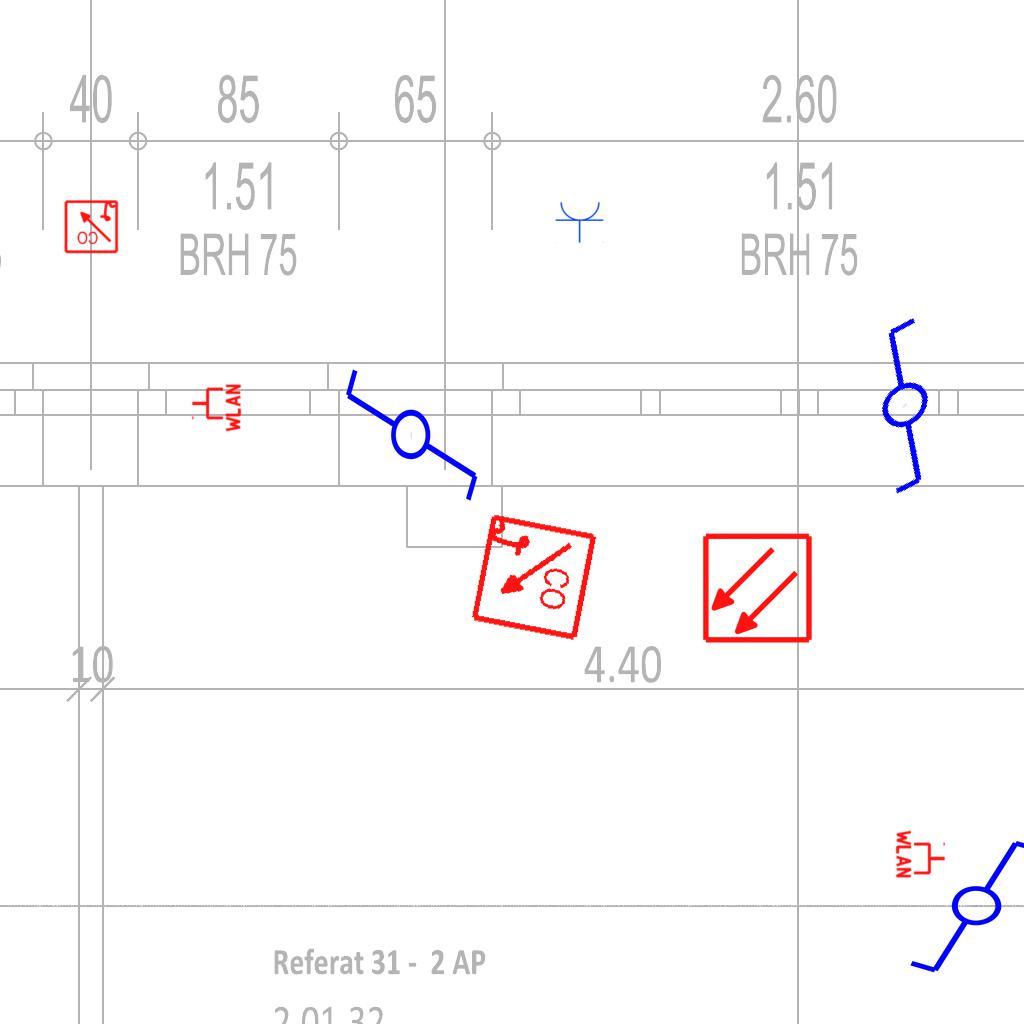RMO_Rauchmelder_optischer: (701, 532, 814, 645)
ROA_Rauchmelder_optisch_mit_Signalgeber_(Sockelsirene): (466, 511, 599, 644), (63, 198, 119, 254)
Schukosteckdose_einfach: (555, 200, 605, 243)
WLAN: (895, 828, 947, 880), (190, 382, 242, 434)
Wechselschalter: (805, 294, 1020, 508), (341, 348, 485, 505), (906, 836, 1024, 980)
